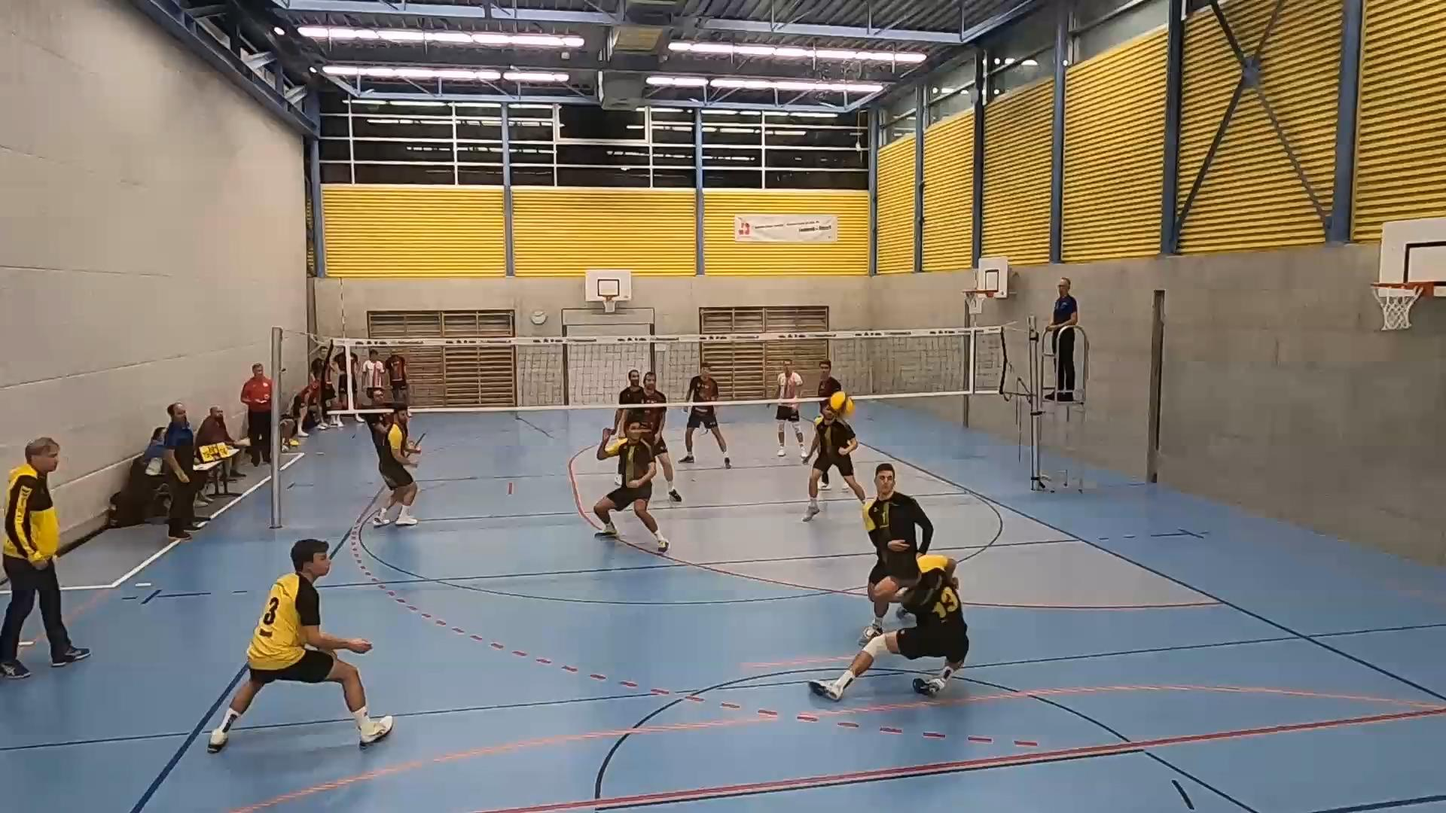difesa: (805, 551, 972, 699)
